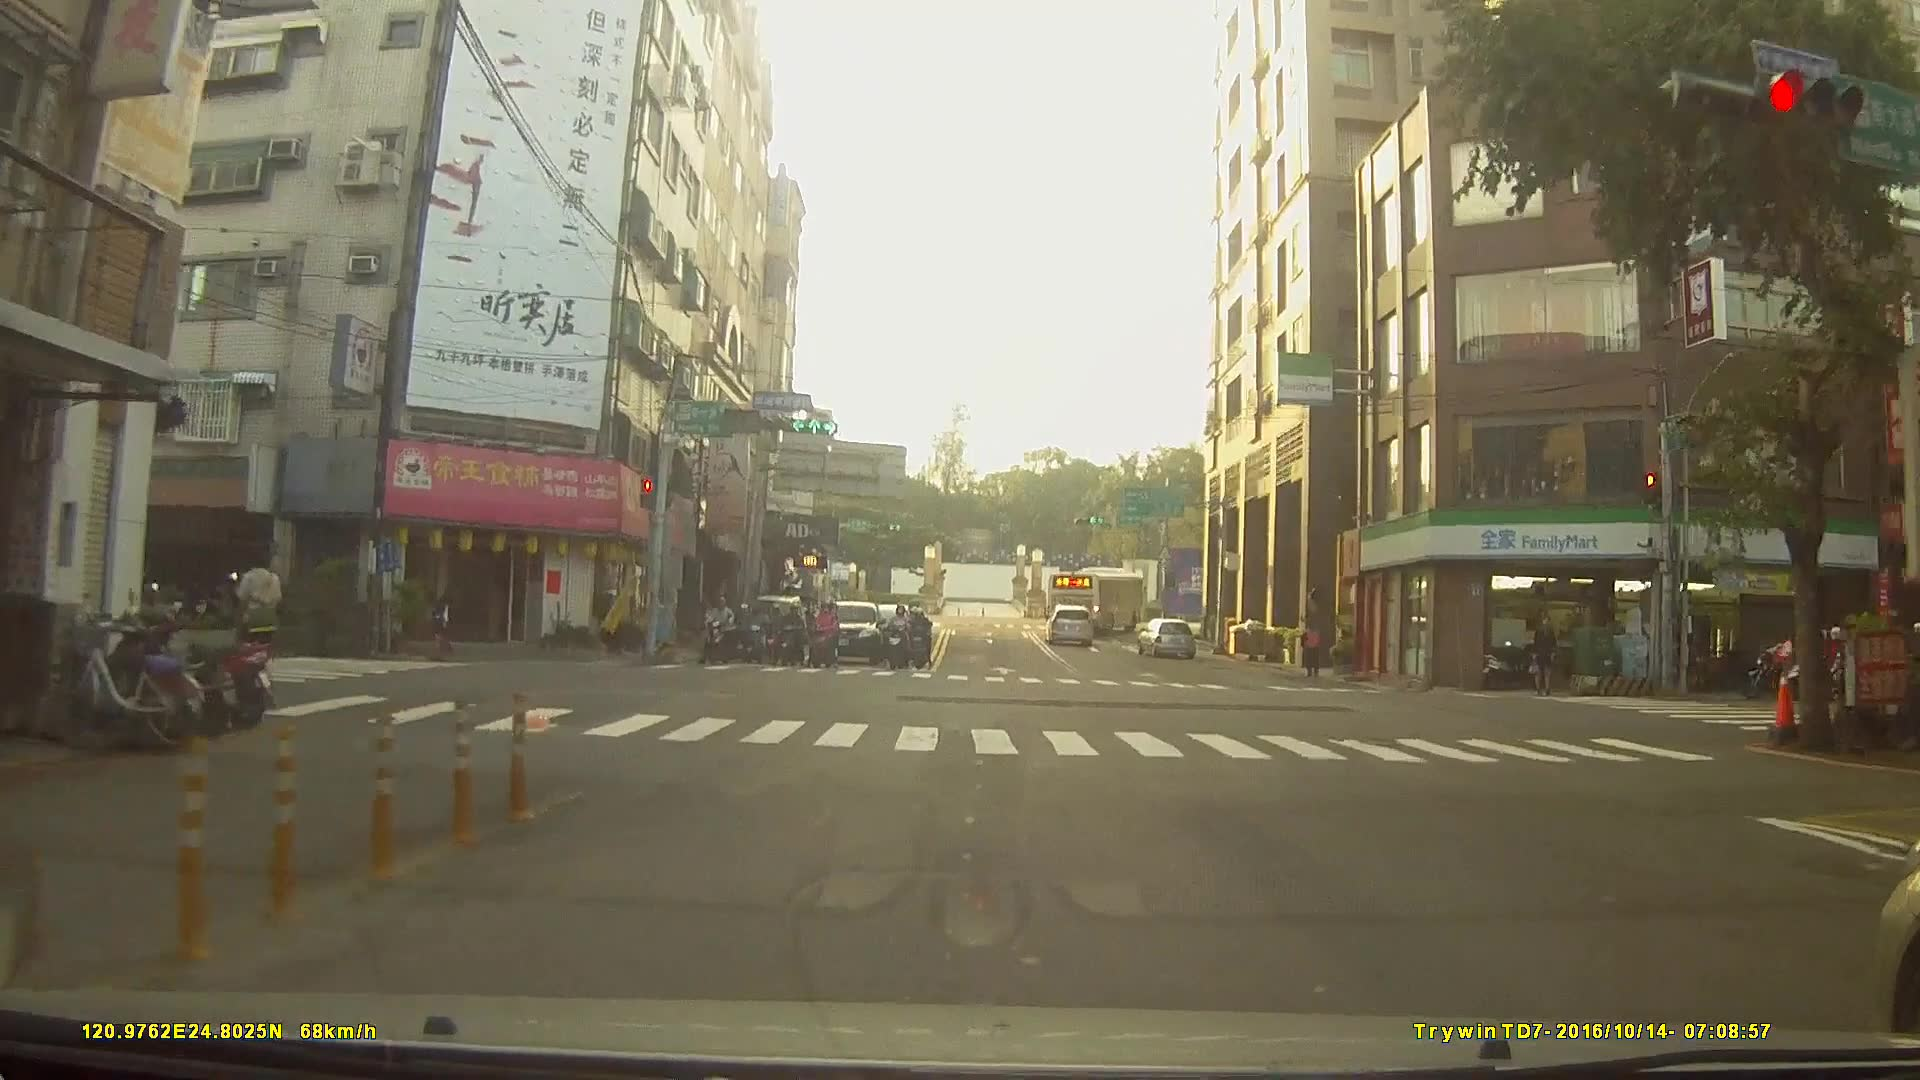pedestrian: (229, 538, 290, 692), (1534, 621, 1562, 699), (432, 594, 459, 662), (1298, 619, 1323, 679)
rider: (702, 599, 737, 668), (810, 603, 843, 674), (776, 604, 808, 668), (909, 604, 936, 671), (742, 596, 771, 656), (887, 607, 912, 675)
vehicle: (1044, 567, 1146, 631), (814, 596, 885, 666), (1133, 619, 1195, 660), (1045, 605, 1096, 649)
